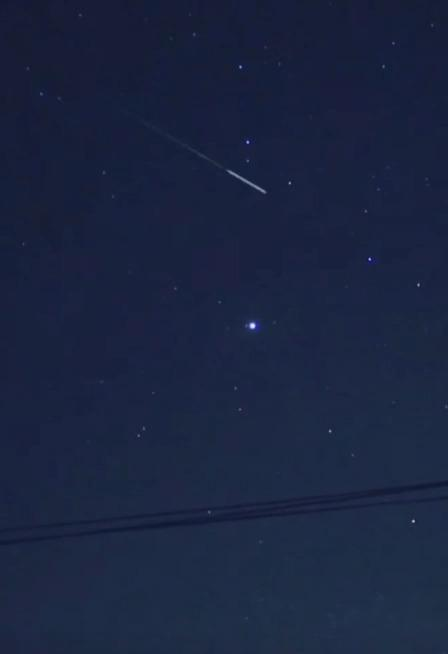meteorite: (77, 99, 280, 218)
